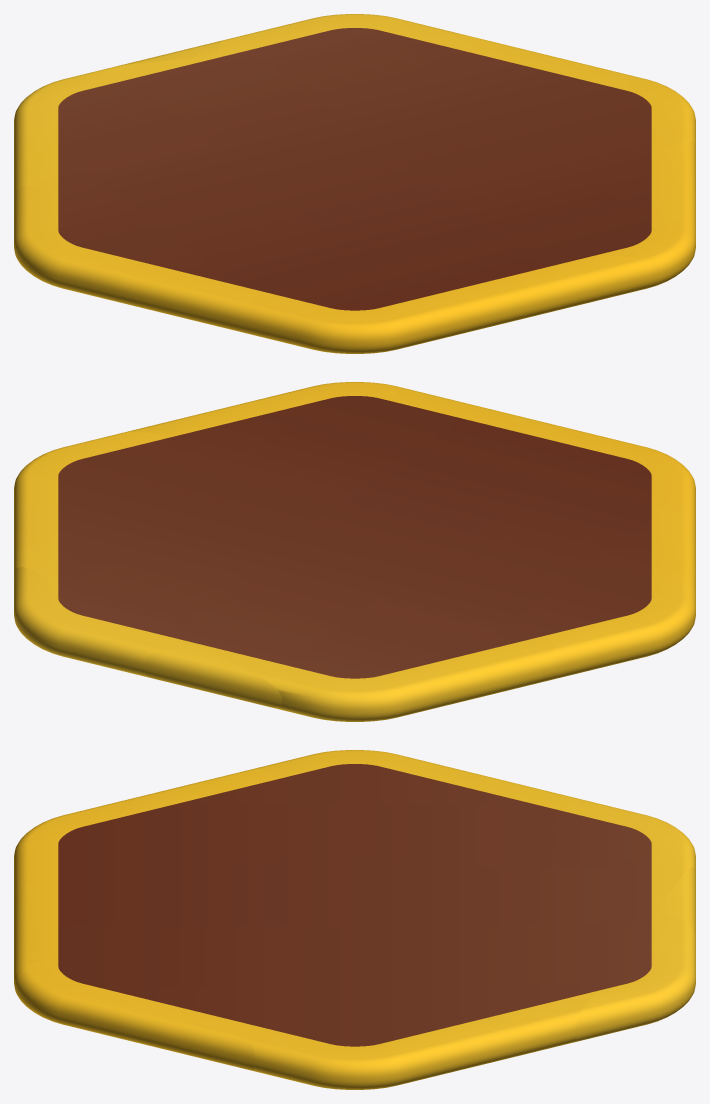
File: Wooden.fbx
The picture shows the model from 3 angles, top to bottom: view 1: azimuth 30°, elevation 25°; view 2: azimuth 150°, elevation 25°; view 3: azimuth 270°, elevation 25°; orthographic projection.
Parts seen in each view (by area): view 1: Cylinder.040, Cylinder.049, Cylinder.043, Cylinder.048, Cylinder.045, Cylinder.047, Cylinder.042, Cylinder.037, Cylinder.039, Cylinder.044, Cylinder.038, Cylinder.035 (+2 smaller); view 2: Cylinder.040, Cylinder.043, Cylinder.037, Cylinder.045, Cylinder.048, Cylinder.039, Cylinder.049, Cylinder.042, Cylinder.047, Cylinder.038, Cylinder.035, Cylinder.044 (+2 smaller); view 3: Cylinder.040, Cylinder.043, Cylinder.047, Cylinder.045, Cylinder.048, Cylinder.049, Cylinder.042, Cylinder.037, Cylinder.035, Cylinder.044, Cylinder.038, Cylinder.039 (+2 smaller).
Part boxes in pixels (x1,y1,x2,y2): Cylinder.040: (178,34,556,154); Cylinder.049: (299,238,660,353); Cylinder.043: (400,57,695,167); Cylinder.048: (179,218,474,346); Cylinder.045: (300,155,624,238); Cylinder.047: (476,168,695,286); Cylinder.042: (153,142,399,217); Cylinder.037: (14,56,214,144); Cylinder.039: (14,186,152,302); Cylinder.044: (119,201,298,317); Cylinder.038: (14,133,177,200); Cylinder.035: (215,14,461,56); Cylinder.040: (14,519,387,644); Cylinder.043: (14,431,303,530); Cylinder.037: (193,615,450,721); Cylinder.045: (218,439,482,533); Cylinder.048: (437,458,695,550); Cylinder.039: (521,571,695,678); Cylinder.049: (392,385,695,492); Cylinder.042: (304,528,520,615); Cylinder.047: (194,382,436,458); Cylinder.038: (388,595,556,704); Cylinder.035: (14,567,192,678); Cylinder.044: (483,533,695,595); Cylinder.040: (362,854,655,1063); Cylinder.043: (222,929,488,1089); Cylinder.047: (15,914,221,1053); Cylinder.045: (152,860,361,1004); Cylinder.048: (73,783,282,914); Cylinder.049: (14,813,151,989); Cylinder.042: (283,815,497,928); Cylinder.037: (499,802,695,910); Cylinder.035: (576,910,695,1040); Cylinder.044: (194,768,390,860); Cylinder.038: (391,776,593,853); Cylinder.039: (256,750,487,815).
Size of the model in its own units: 36.04 by 1.55 by 32.47.
